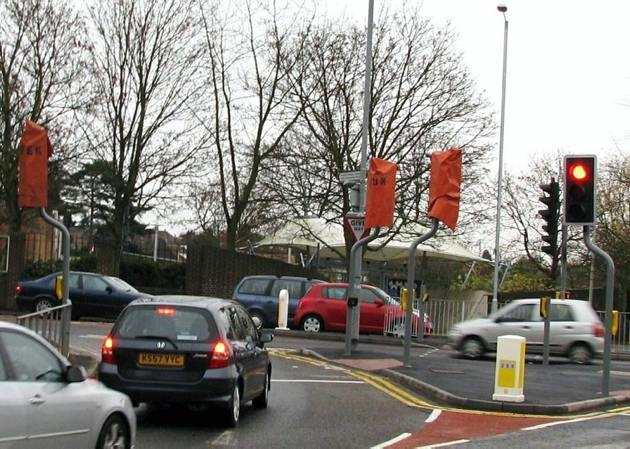stop: (565, 154, 595, 226)
